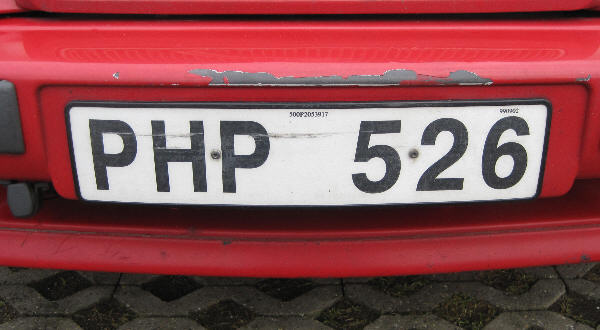license_plate: (64, 102, 552, 206)
